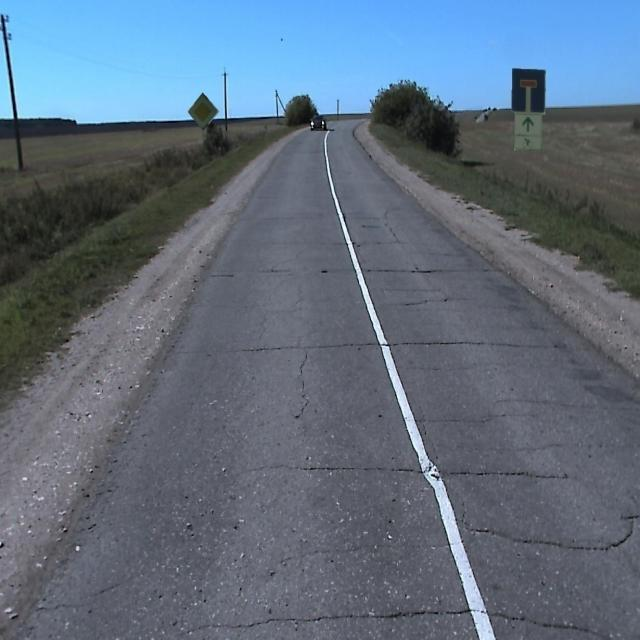road: (23, 121, 639, 639)
